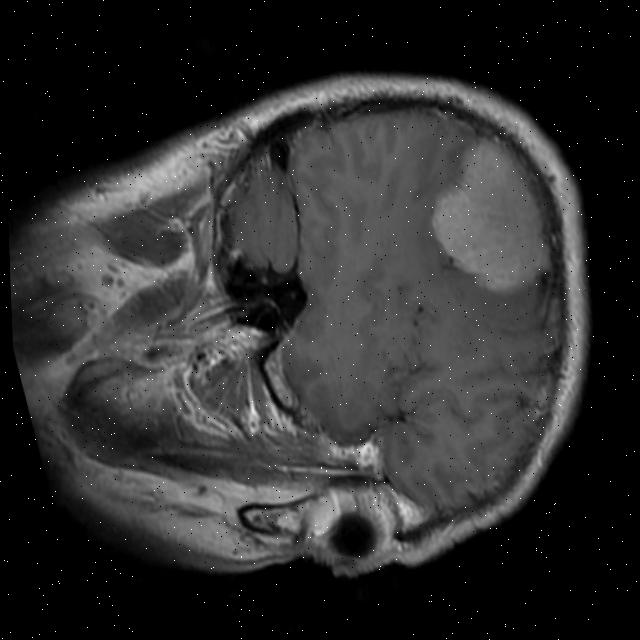Meningioma: (409, 128, 561, 311)
